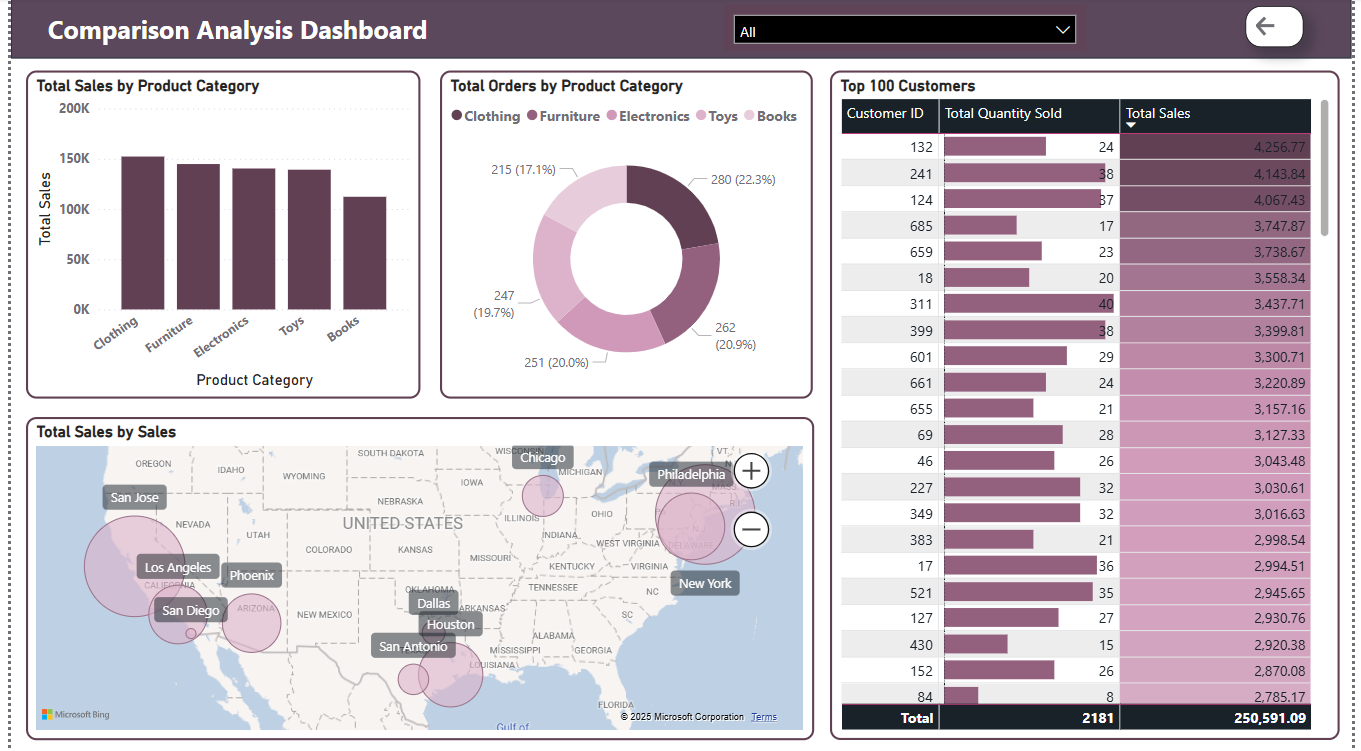

The page's visual inventory and layout, read from the dashboard file:
{"tool":"powerbi","page":{"name":"Comparison Page","canvas":[1280,720],"ordinal":1},"visuals":[{"type":"shape","box":[0,0,1280,58.9],"z":0,"group":"g1"},{"type":"textbox","box":[30.2,8,407.2,44.5],"z":1000,"group":"g1"},{"type":"clusteredColumnChart","fields":{"Category":["Sales data 2024.product_category"],"Y":["Sum(Sales data 2024.sales)"]},"box":[14.3,70,377,313.4],"z":2000,"group":"g1"},{"type":"donutChart","title":"Total Orders by Product Category","fields":{"Category":["Sales data 2024.product_category"],"Y":["CountNonNull(Sales data 2024.order_id)"]},"box":[410.4,70,356.3,313.4],"z":3000,"group":"g1"},{"type":"tableEx","title":"Top 100 Customers","fields":{"Values":["Sales data 2024.customer_id","Sum(Sales data 2024.quantity_sold)","Sum(Sales data 2024.sales)"]},"box":[782.6,70,486.7,639.4],"z":4000,"group":"g1"},{"type":"map","title":"Total Sales by Sales","fields":{"Category":["Sales data 2024.city"],"Size":["Sum(Sales data 2024.sales)"]},"box":[14.3,400.8,752.4,308.6],"z":5000,"group":"g1"},{"type":"slicer","fields":{"Values":["Sales data 2024.state"]},"box":[680.4,7.1,346.4,44.6],"z":6000,"group":"g1"},{"type":"actionButton","box":[1178.6,8.9,55.4,39.3],"z":6001,"group":"g1"},{"type":"group","id":"g1","title":"Group 1","box":[0,0,1280,709.4],"z":6002}]}

Visuals, with their boxes in screenshot pixels (x1, y1, x2, y2), scaled from the page's 1280x720 canvas onto the 1361x751 screenshot:
shape: [0,0,1360,61]
textbox: [32,8,465,55]
clusteredColumnChart - Sales data 2024.product_category x Sum(Sales data 2024.sales): [15,73,416,400]
"Total Orders by Product Category" donutChart: [436,73,815,400]
"Top 100 Customers" tableEx: [832,73,1350,740]
"Total Sales by Sales" map: [15,418,815,740]
slicer - Sales data 2024.state: [723,7,1092,54]
actionButton: [1253,9,1312,50]
"Group 1" group: [0,0,1360,740]
